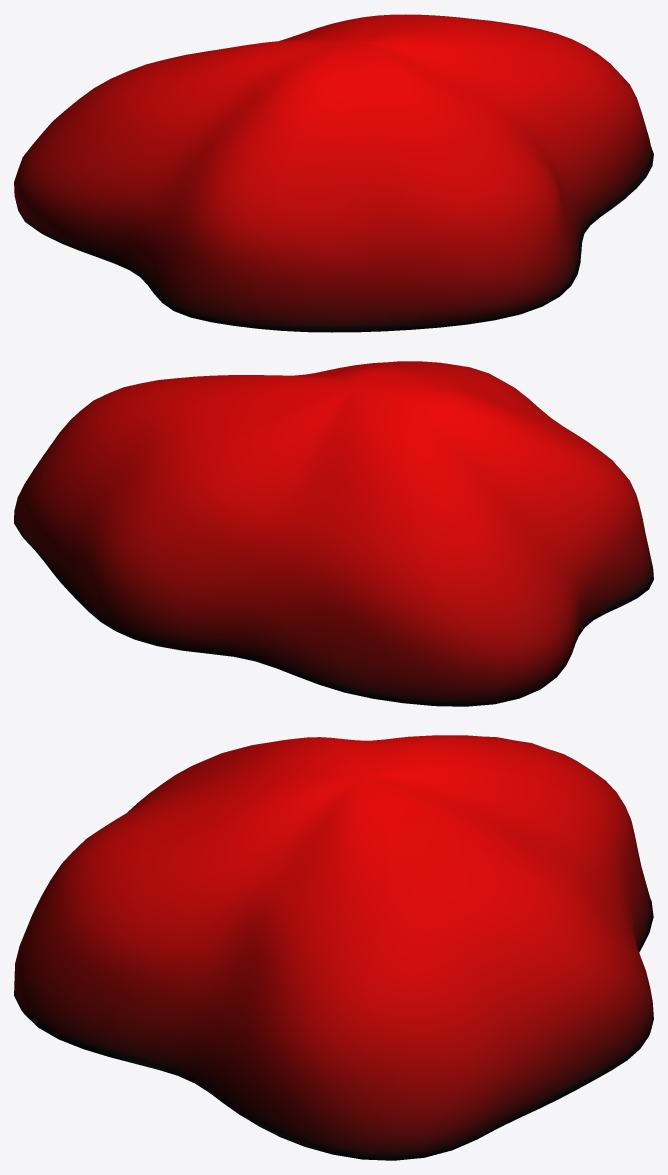
The model's file is waking_colony.glb.
The picture shows the model from 3 angles, top to bottom: view 1: azimuth 30°, elevation 25°; view 2: azimuth 150°, elevation 25°; view 3: azimuth 270°, elevation 25°; orthographic projection. The views are drawn at different scales.
Visible parts, largest first — view 1: Membrane; view 2: Membrane; view 3: Membrane.
Part boxes in pixels (left/top/right/bottom): Membrane: left=14, top=14, right=653, bottom=332; Membrane: left=14, top=361, right=653, bottom=706; Membrane: left=14, top=735, right=653, bottom=1160.
Bounding box in the file's own units: 0.5733 × 0.1985 × 0.4716.
